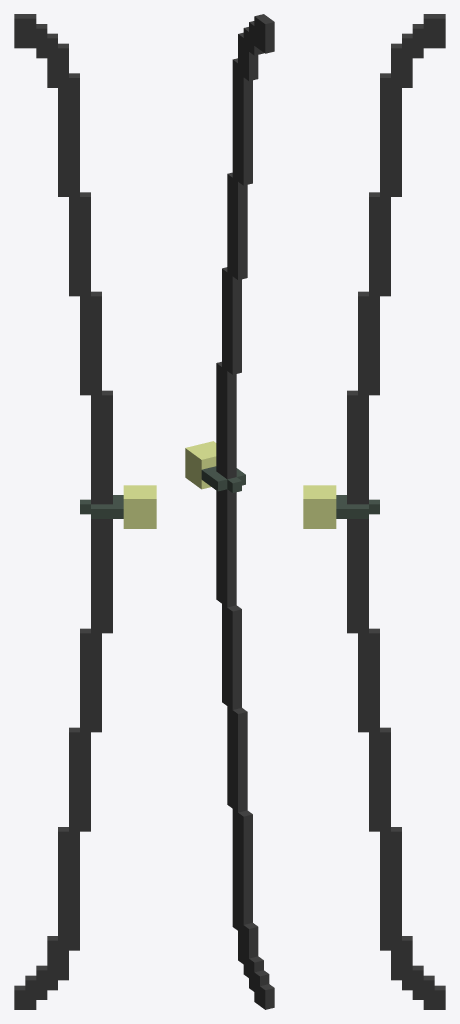
The model's file is Lantern-1.obj.
3 views of the same model, side by side, from view 1: azimuth 90°, elevation 25°; view 2: azimuth 210°, elevation 25°; view 3: azimuth 270°, elevation 25° (orthographic).
Visible parts, largest first — view 1: Lantern-1; view 2: Lantern-1; view 3: Lantern-1.
Boxes of the visible parts, box(x1,y1,x2,y2) form: Lantern-1: box(14, 14, 156, 1009); Lantern-1: box(185, 14, 274, 1009); Lantern-1: box(303, 14, 445, 1009).
Size of the model in its own units: 0.06 by 2 by 0.26.
